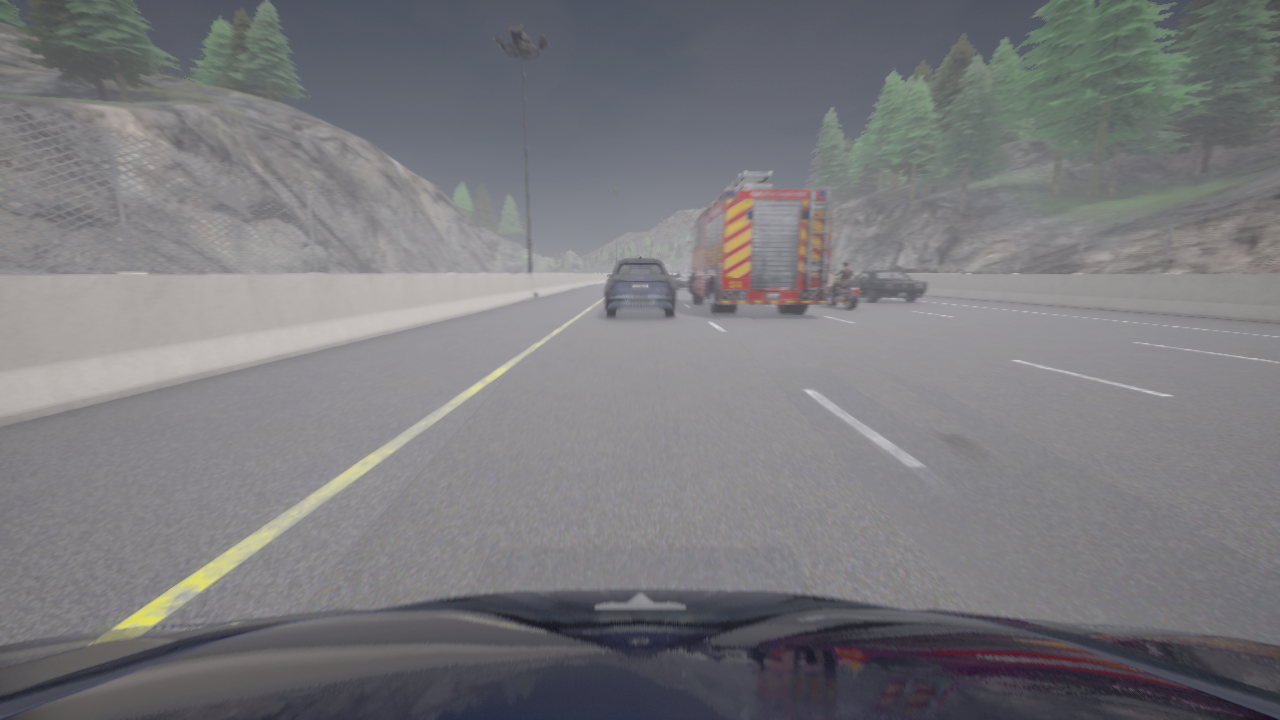cyclist: (0, 588, 1279, 719), (684, 171, 830, 313), (605, 258, 674, 317), (850, 271, 926, 302), (826, 271, 859, 309), (673, 272, 690, 289)
